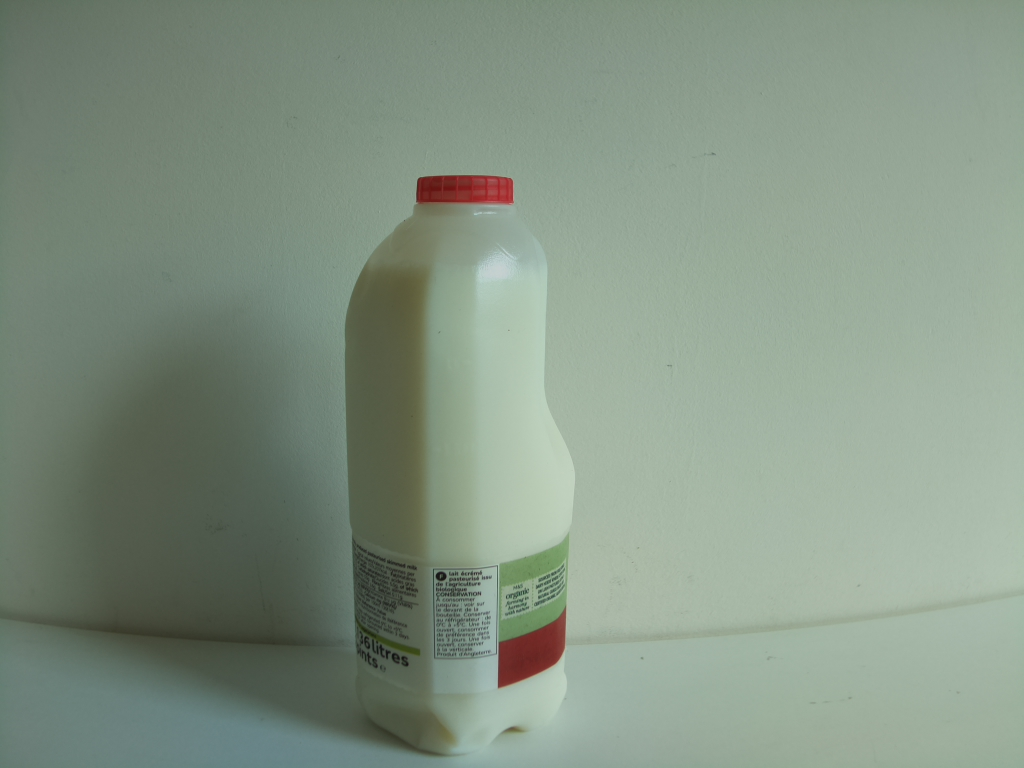milk: (342, 170, 577, 754)
